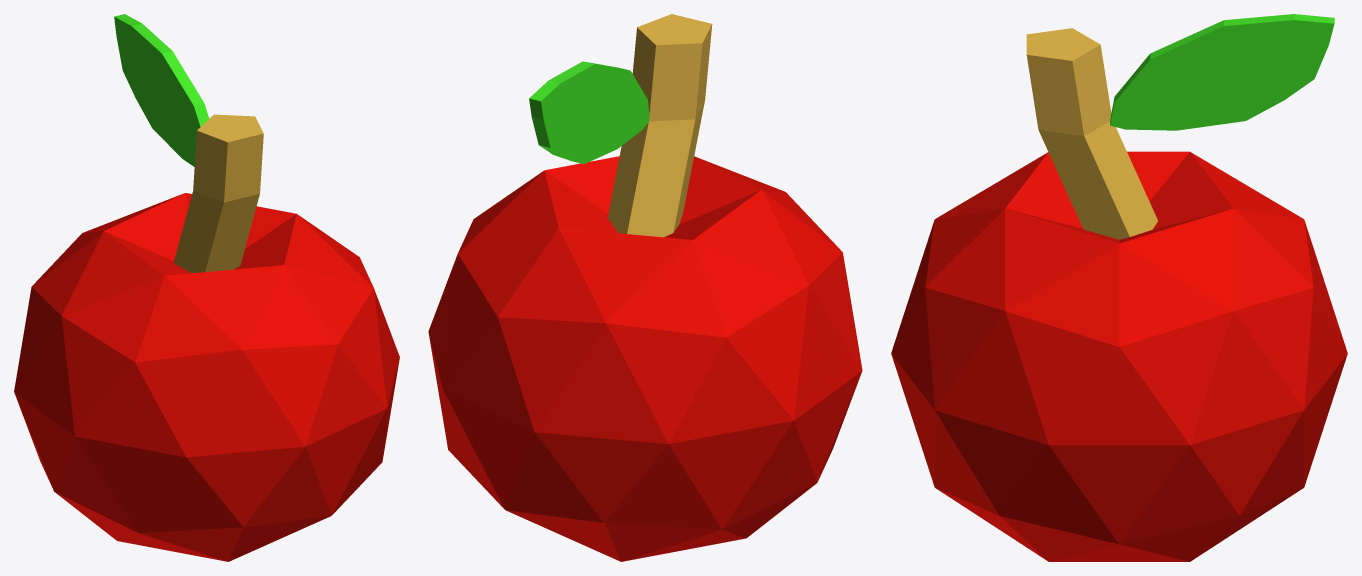
Rendered from Elma.fbx.
The picture shows the model from 3 angles, left to right: view 1: azimuth 30°, elevation 25°; view 2: azimuth 150°, elevation 25°; view 3: azimuth 270°, elevation 25°; orthographic projection. The views are drawn at different scales.
Visible parts, largest first — view 1: Icosphere, Cylinder.001, Plane; view 2: Icosphere, Cylinder.001, Plane; view 3: Icosphere, Plane, Cylinder.001.
Part boxes in pixels (x1,y1,x2,y2): Icosphere: (14,193,399,561); Cylinder.001: (173,114,263,273); Plane: (114,14,209,166); Icosphere: (428,156,862,561); Cylinder.001: (607,14,712,237); Plane: (529,61,649,164); Icosphere: (891,151,1347,561); Plane: (1110,14,1334,130); Cylinder.001: (1026,28,1157,239).
Bounding box in the file's own units: 673 × 866 × 707.
